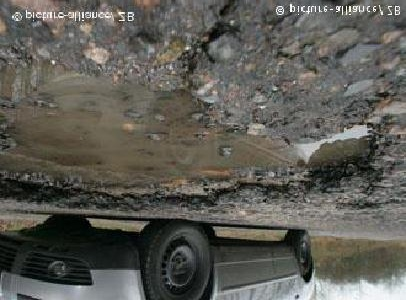pothole: (0, 43, 388, 216)
